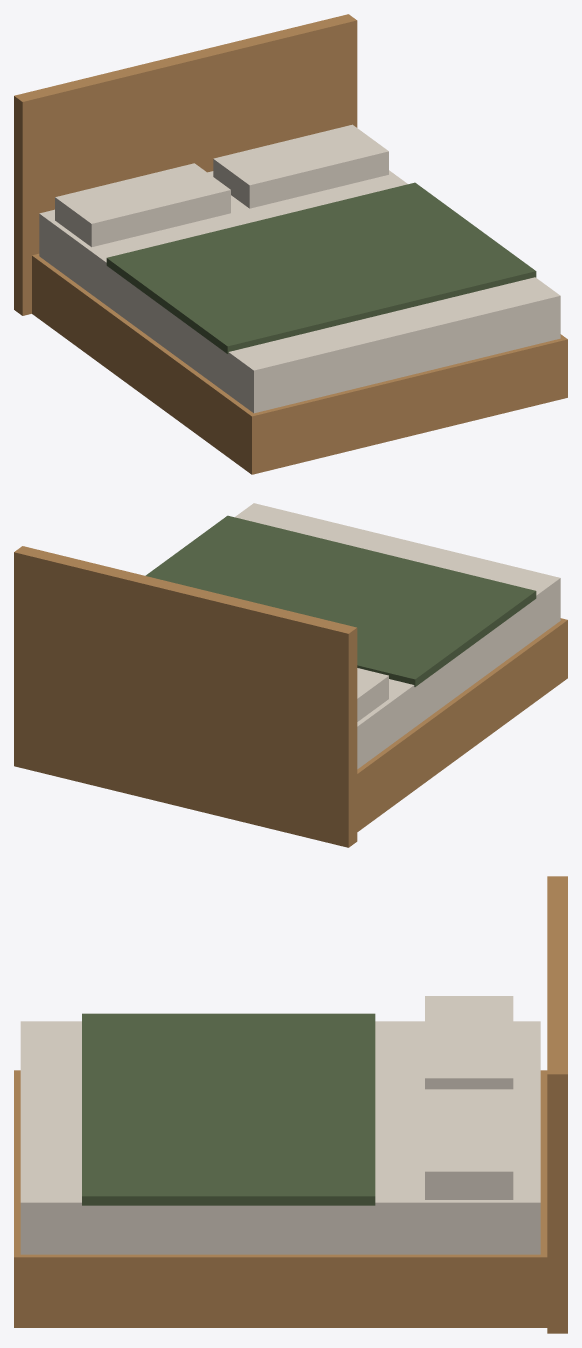
The picture shows the model from 3 angles, top to bottom: view 1: azimuth 30°, elevation 25°; view 2: azimuth 150°, elevation 25°; view 3: azimuth 270°, elevation 25°; orthographic projection. The views are drawn at different scales.
Parts seen in each view (by area): view 1: cama_master; view 2: cama_master; view 3: cama_master.
Part boxes in pixels (bbox=[...]): cama_master: bbox=[14, 14, 567, 474]; cama_master: bbox=[14, 503, 567, 847]; cama_master: bbox=[14, 876, 567, 1333].
Size of the model in its own units: 1.8 by 2.13 by 1.1.
